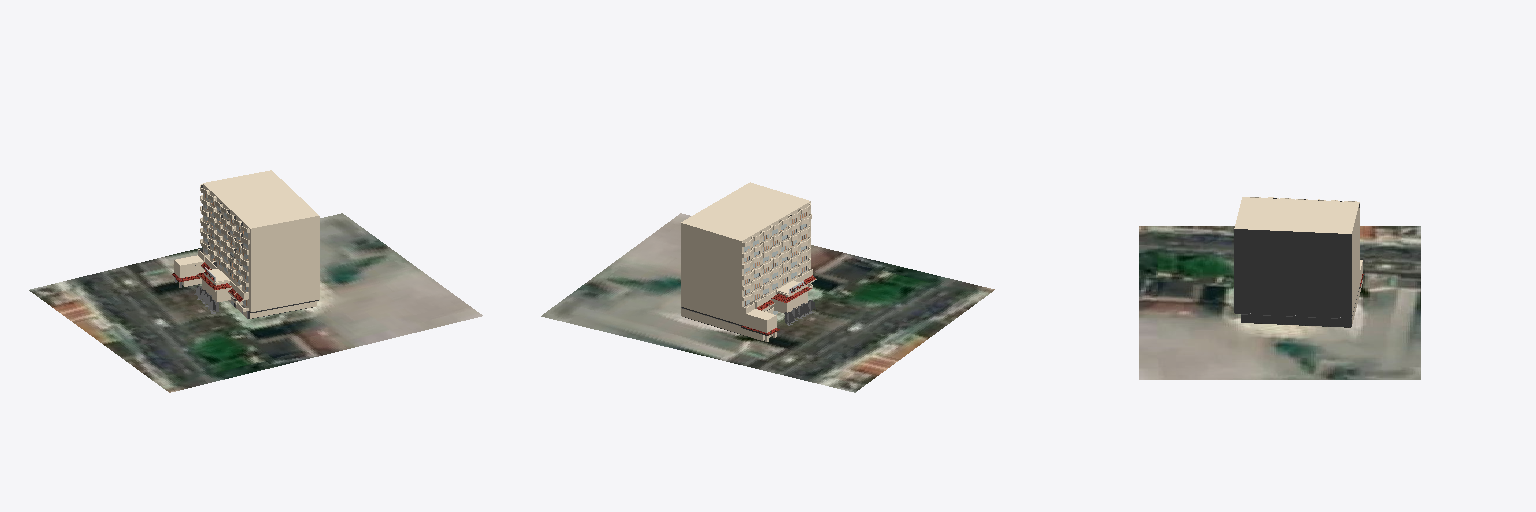
3 views of the same model, side by side, from view 1: azimuth 30°, elevation 25°; view 2: azimuth 150°, elevation 25°; view 3: azimuth 270°, elevation 25° (orthographic).
Parts seen in each view (by area): view 1: Mesh551 Location_Snapshot_1 Model, Mesh470 Generic___200mm39_1 Group1 Model, Mesh321 Generic_Roof___300mm248_1 Group1 Model, Mesh492 Generic___200mm38_1 Group1 Model; view 2: Mesh551 Location_Snapshot_1 Model, Mesh510 Generic___200mm34_1 Group1 Model, Mesh321 Generic_Roof___300mm248_1 Group1 Model, Mesh492 Generic___200mm38_1 Group1 Model, Mesh386 Generic___200mm16_1 Group1 Model; view 3: Mesh551 Location_Snapshot_1 Model, Mesh509 Generic___200mm40_1 Group1 Model, Mesh321 Generic_Roof___300mm248_1 Group1 Model, Mesh389 Generic___200mm15_1 Group1 Model, Mesh510 Generic___200mm34_1 Group1 Model.
Boxes of the visible parts, <box> form: Mesh551 Location_Snapshot_1 Model: <box>29,213,482,392</box>; Mesh470 Generic___200mm39_1 Group1 Model: <box>251,217,319,311</box>; Mesh321 Generic_Roof___300mm248_1 Group1 Model: <box>203,170,319,229</box>; Mesh492 Generic___200mm38_1 Group1 Model: <box>203,185,250,311</box>; Mesh551 Location_Snapshot_1 Model: <box>541,213,994,392</box>; Mesh510 Generic___200mm34_1 Group1 Model: <box>681,224,741,324</box>; Mesh321 Generic_Roof___300mm248_1 Group1 Model: <box>681,182,810,241</box>; Mesh492 Generic___200mm38_1 Group1 Model: <box>742,202,810,310</box>; Mesh386 Generic___200mm16_1 Group1 Model: <box>681,308,761,340</box>; Mesh551 Location_Snapshot_1 Model: <box>1139,226,1420,379</box>; Mesh509 Generic___200mm40_1 Group1 Model: <box>1235,230,1350,317</box>; Mesh321 Generic_Roof___300mm248_1 Group1 Model: <box>1234,197,1359,234</box>; Mesh389 Generic___200mm15_1 Group1 Model: <box>1242,314,1351,326</box>; Mesh510 Generic___200mm34_1 Group1 Model: <box>1351,208,1359,317</box>.
Bounding box in the file's own units: 90.6 × 25.88 × 70.35.
Materials: 12 (5 with a texture image).